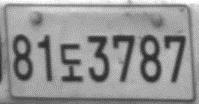1: (36, 34, 53, 81)
3: (86, 34, 109, 82)
7: (111, 34, 135, 83), (163, 34, 186, 84)
8: (138, 33, 162, 82), (11, 33, 33, 81)
도: (59, 43, 83, 82)
